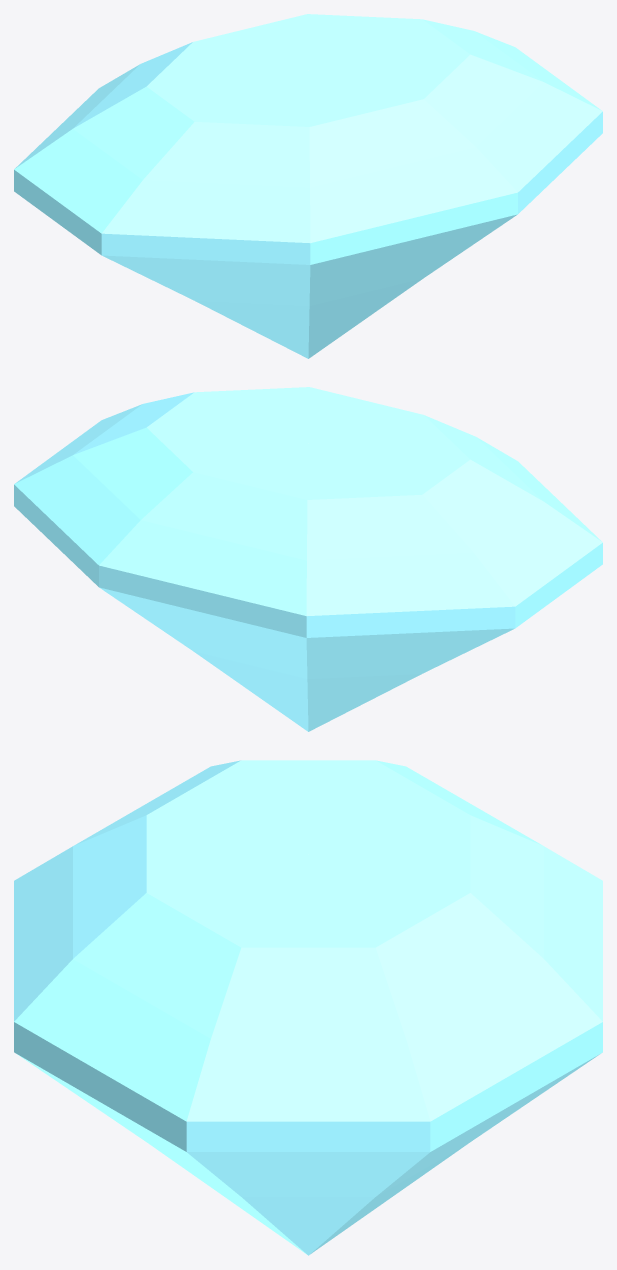
The model's file is aquamarine-jewel.glb.
3 views of the same model, one above another, from view 1: azimuth 30°, elevation 25°; view 2: azimuth 150°, elevation 25°; view 3: azimuth 270°, elevation 25° (orthographic). The views are drawn at different scales.
Parts seen in each view (by area): view 1: Aquamarine; view 2: Aquamarine; view 3: Aquamarine.
Part boxes in pixels (<box>): Aquamarine: <box>14,14,602,358</box>; Aquamarine: <box>14,387,602,731</box>; Aquamarine: <box>14,760,602,1255</box>.
Size of the model in its own units: 2.4 by 1.32 by 1.76.
